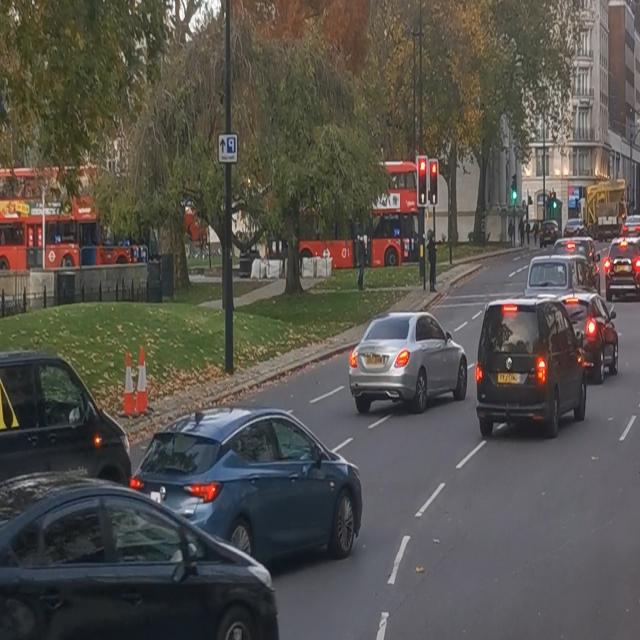Car: (122, 408, 366, 564), (478, 294, 588, 436), (346, 304, 470, 404), (560, 290, 618, 380), (604, 237, 640, 299)
